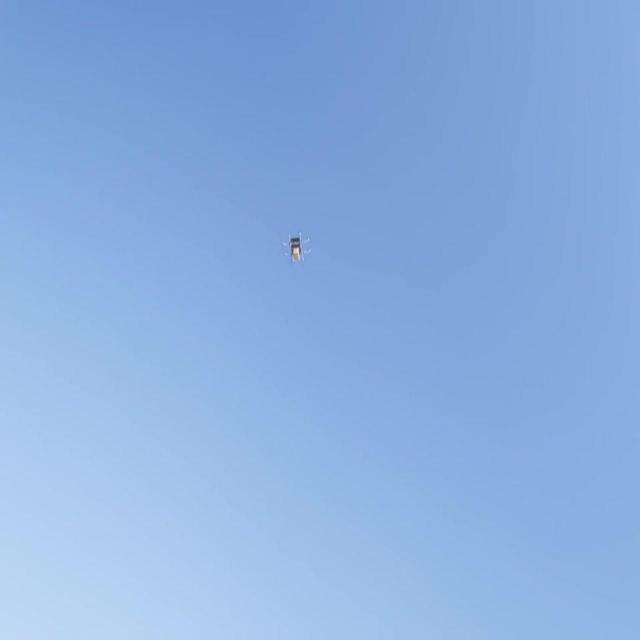UAV: (283, 232, 311, 262)
